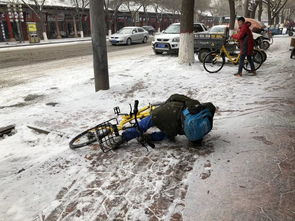fall: (109, 85, 219, 152)
